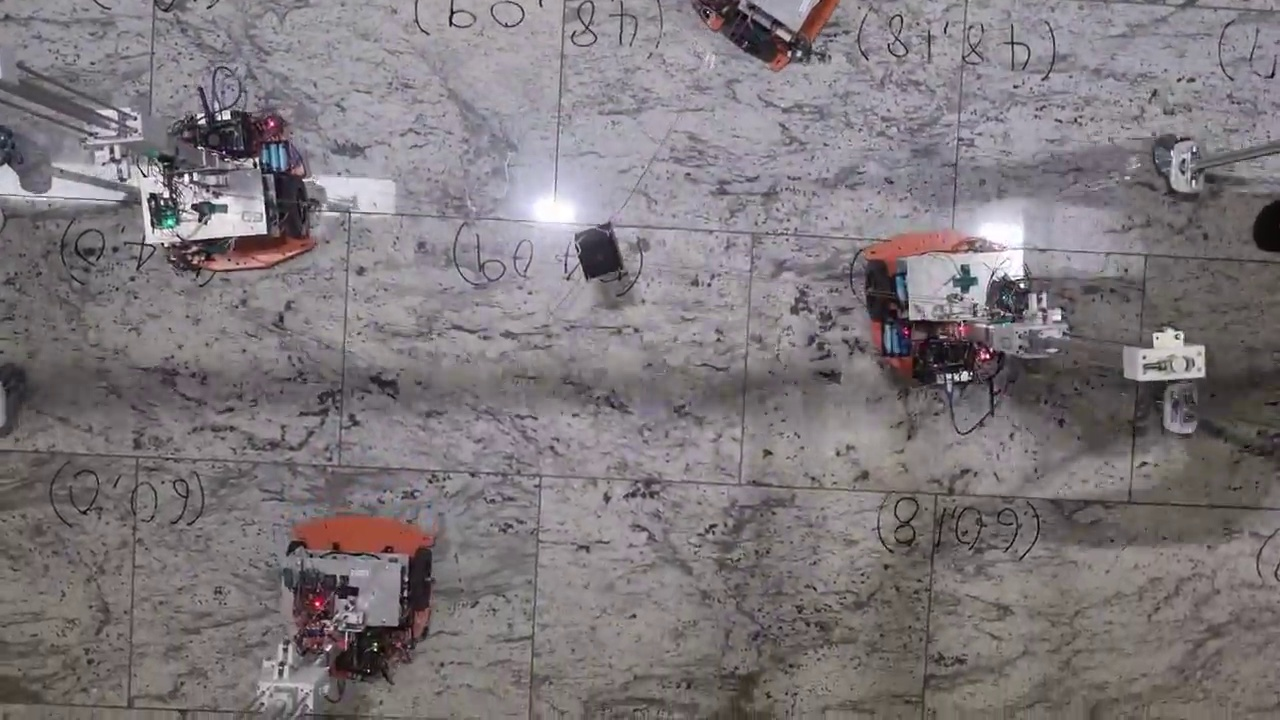e0: (575, 223, 623, 279)
r1: (865, 250, 1023, 323)
r2: (787, 1, 792, 5)
r3: (152, 173, 310, 248)
r4: (281, 540, 434, 611)
y_+_axis_vector: (541, 476, 937, 495)
y_-_axis_vector: (138, 457, 541, 476)
